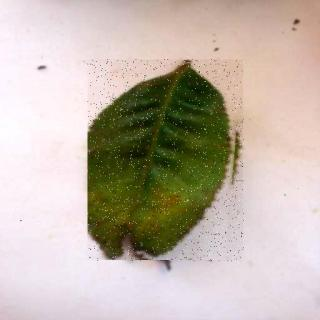Brown Blight: (89, 61, 245, 263)
